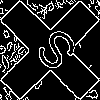S: (25, 25, 82, 82)
